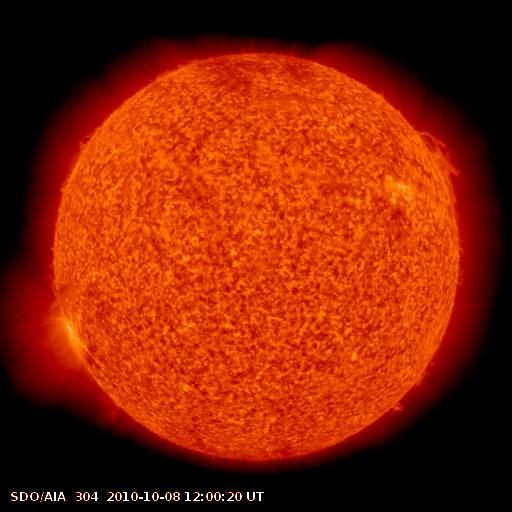prominence: (414, 121, 478, 210), (58, 122, 108, 200), (384, 359, 443, 420), (26, 249, 82, 313), (444, 239, 474, 299)
